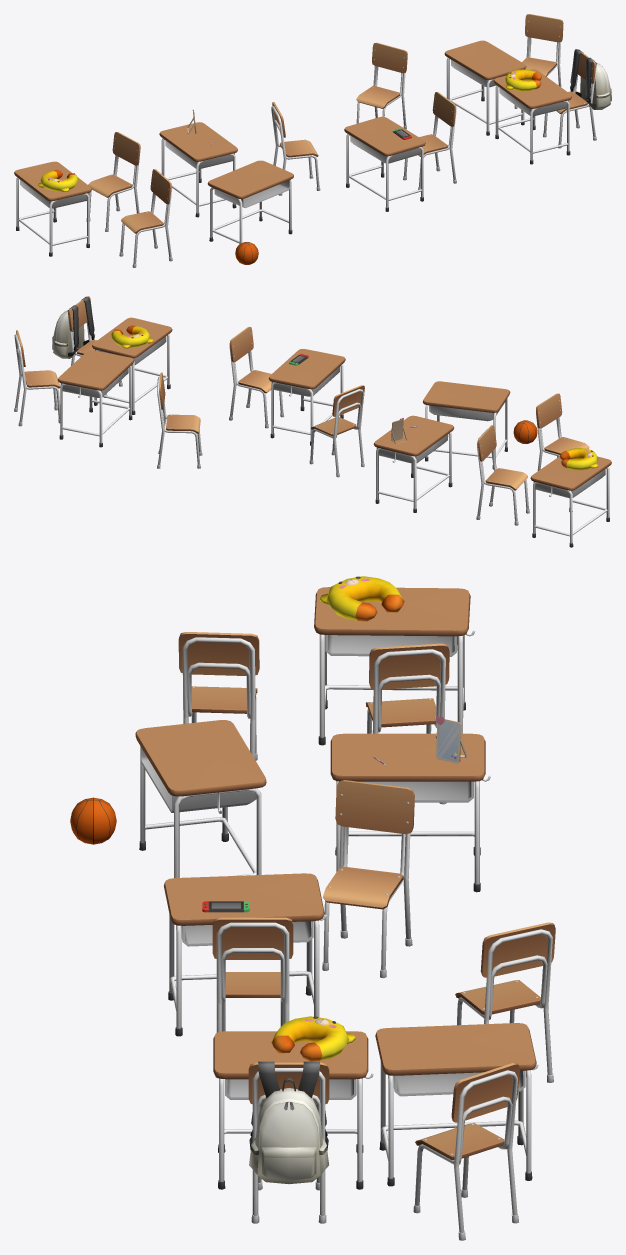
The model's file is CR_RoomB_Chair01_Merged.fbx.
The picture shows the model from 3 angles, top to bottom: view 1: azimuth 30°, elevation 25°; view 2: azimuth 150°, elevation 25°; view 3: azimuth 270°, elevation 25°; orthographic projection. The views are drawn at different scales.
Visible parts, largest first — view 1: CR_RoomB_Chair01_Merged; view 2: CR_RoomB_Chair01_Merged; view 3: CR_RoomB_Chair01_Merged.
Boxes of the visible parts, x1=… form: CR_RoomB_Chair01_Merged: x1=14, y1=14, x2=611, y2=267; CR_RoomB_Chair01_Merged: x1=14, y1=296, x2=611, y2=547; CR_RoomB_Chair01_Merged: x1=70, y1=576, x2=555, y2=1240.
Bounding box in the file's own units: 545 × 75.51 × 208.
